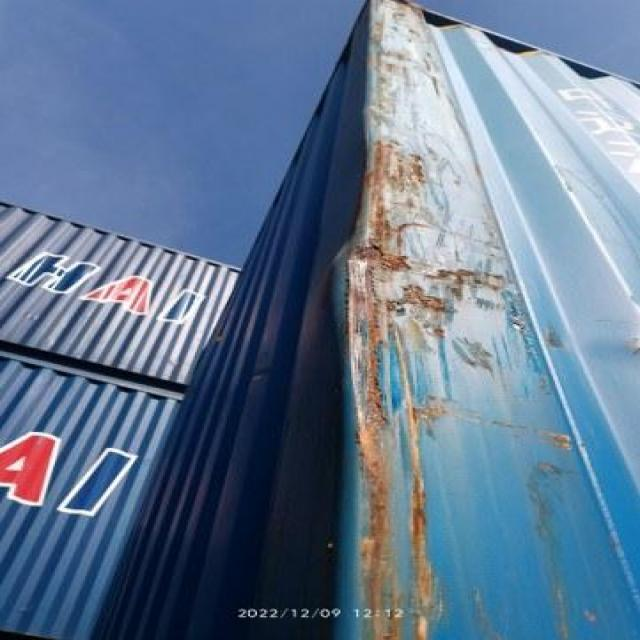Rust: (344, 138, 458, 629)
